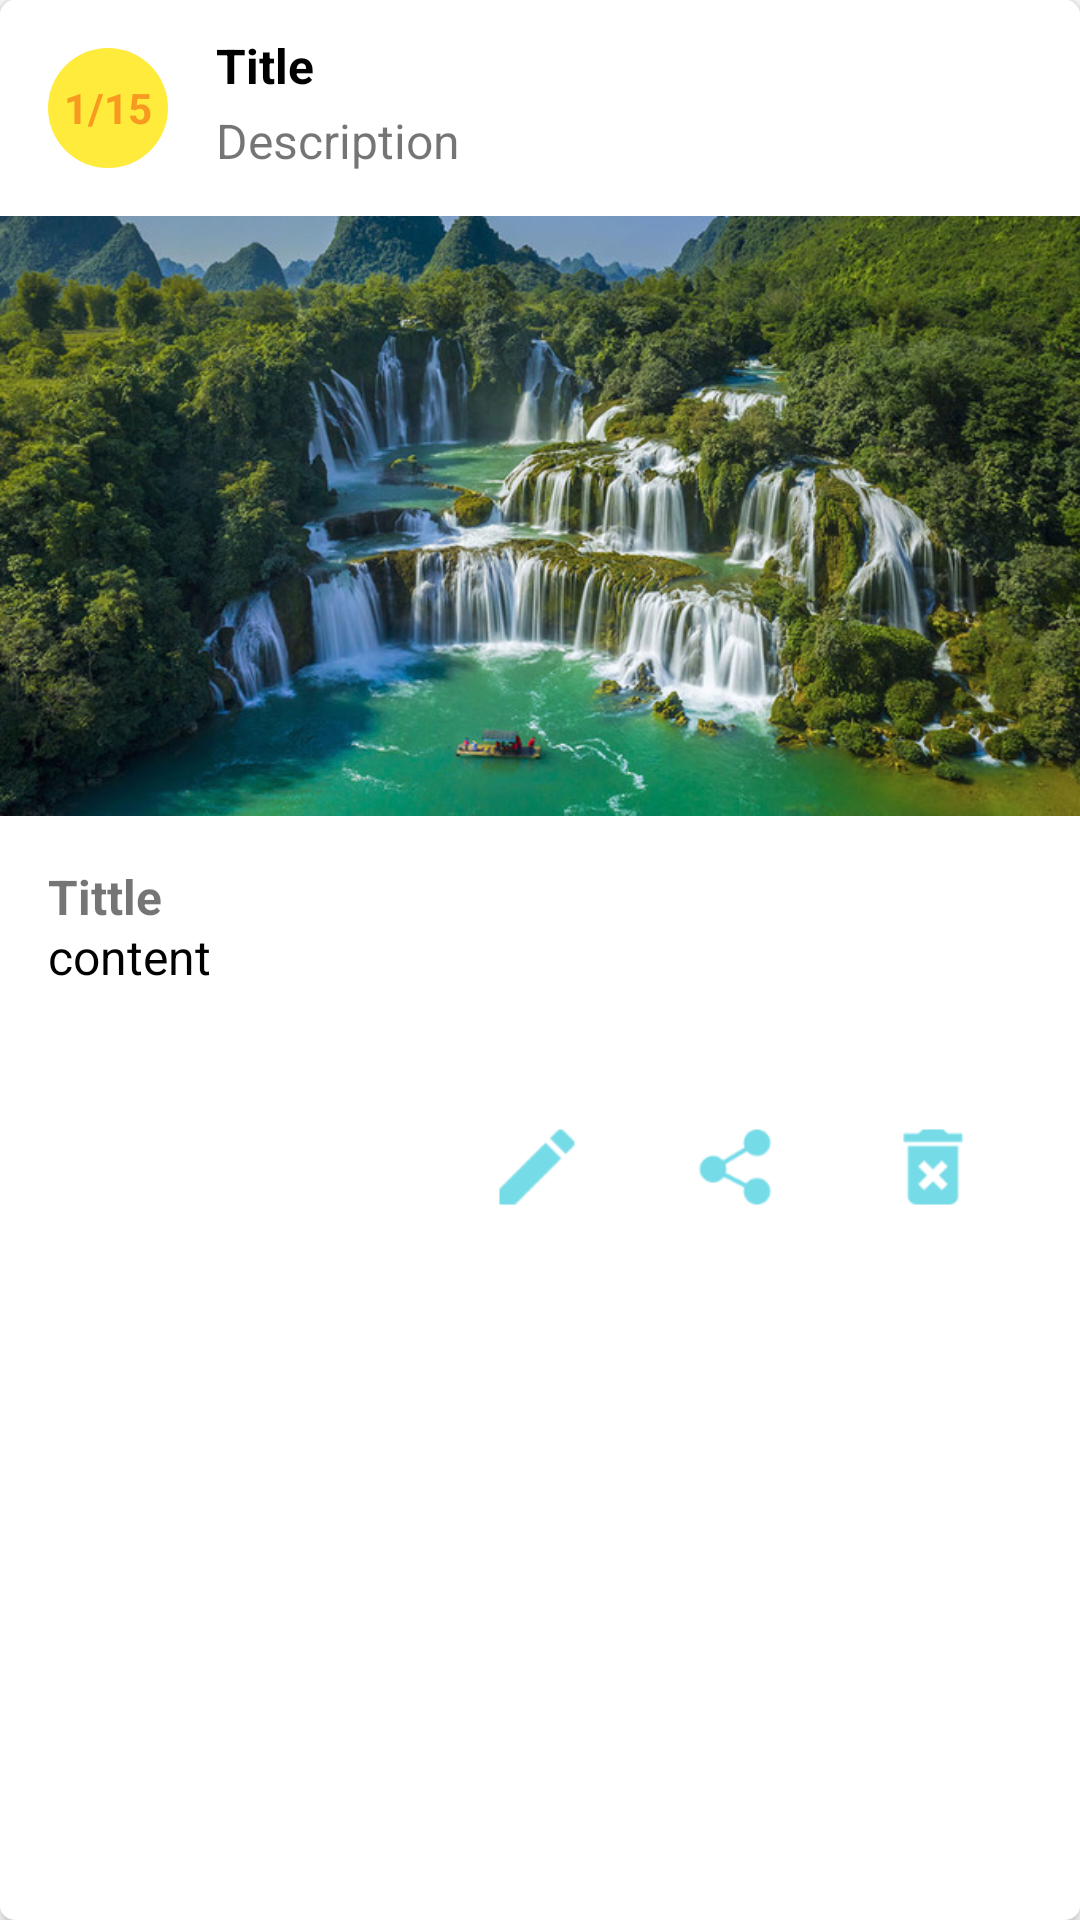

Icons on this 1080x1920 Android screen, each with its box as (x1, y1, x2, y2):
delete: (903, 1129, 963, 1205)
edit: (499, 1129, 575, 1205)
share: (699, 1129, 771, 1205)
